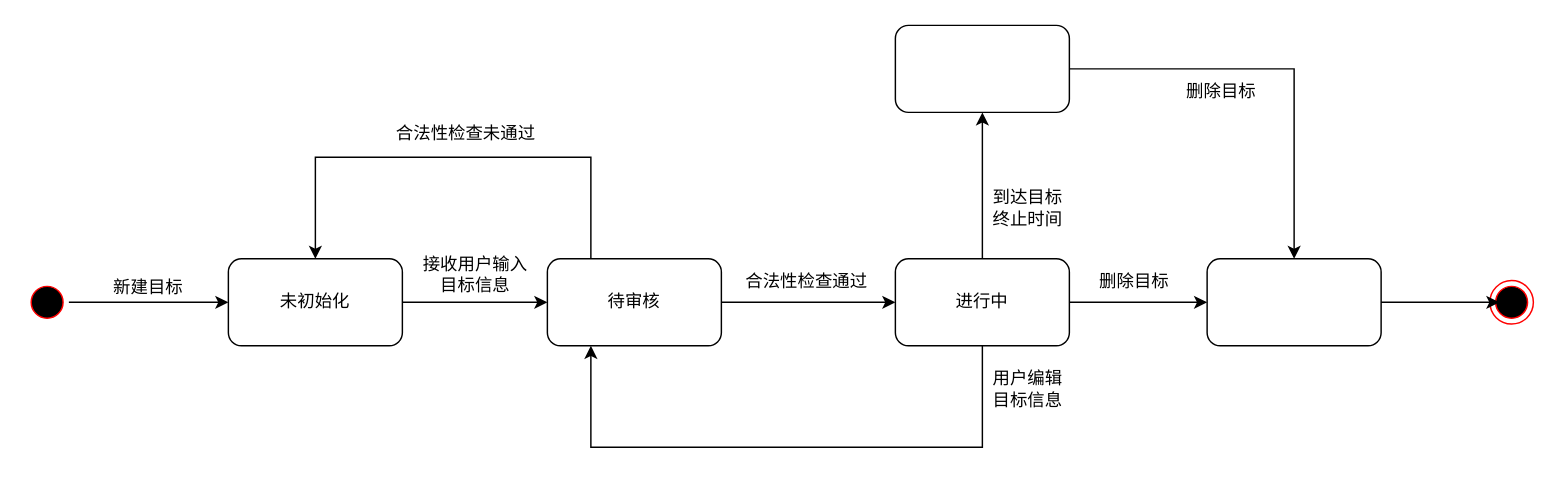
Some shapes in this 1559 by 484 pixel diagram are drawn without their labels. The shapes that lost their labels are listed below. From the top down, each one's centre as x and y in pixels, then its label:
At point (981, 68): "已结束".
At point (1293, 301): "已失效".
